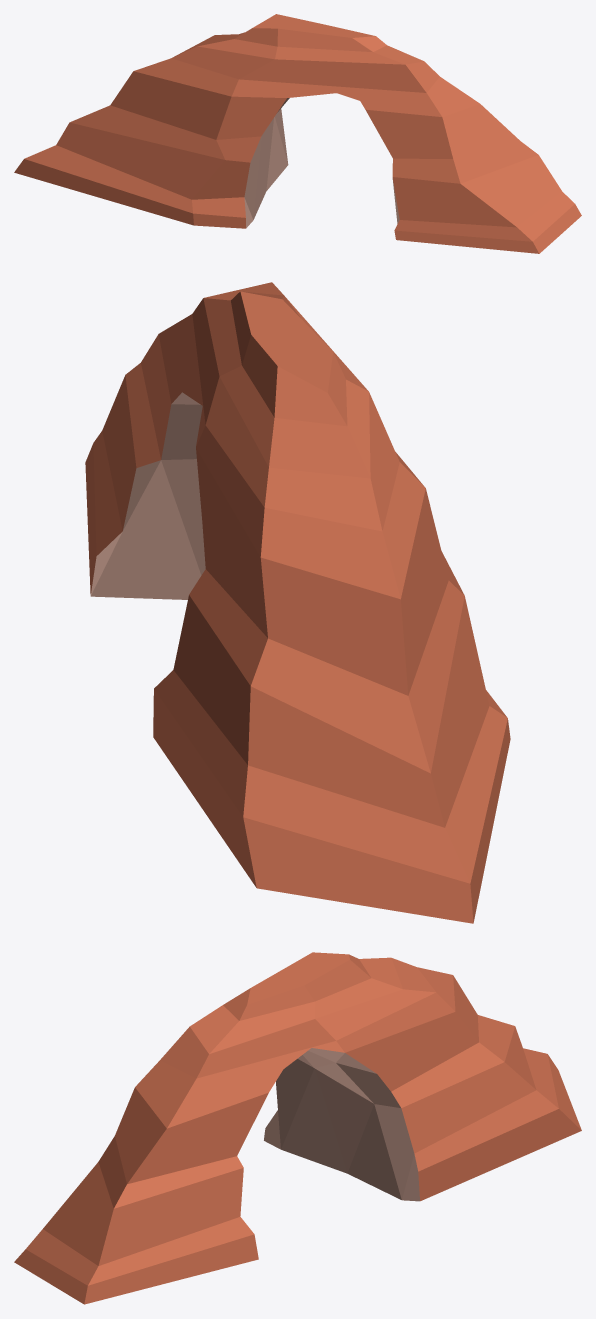
File: Rock_Mesa_Large_2.fbx
The picture shows the model from 3 angles, top to bottom: view 1: azimuth 30°, elevation 25°; view 2: azimuth 150°, elevation 25°; view 3: azimuth 270°, elevation 25°; orthographic projection. The views are drawn at different scales.
Visible parts, largest first — view 1: Rock; view 2: Rock; view 3: Rock.
Boxes of the visible parts, x1,y1,x2,y2 form: Rock: (14, 14, 581, 253); Rock: (85, 282, 510, 923); Rock: (14, 952, 581, 1304).
Bounding box in the file's own units: 504 × 221 × 513.
